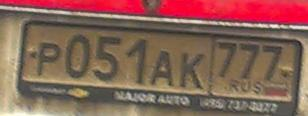license-plateSW: (22, 21, 301, 103)
